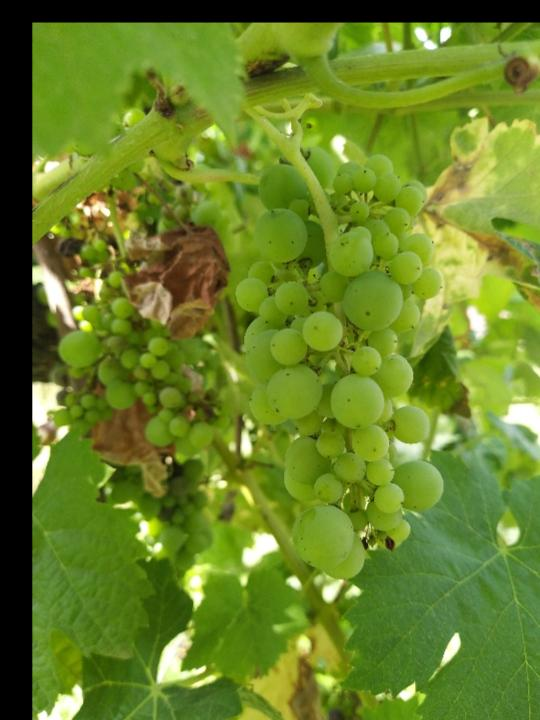grape: (232, 145, 446, 585)
